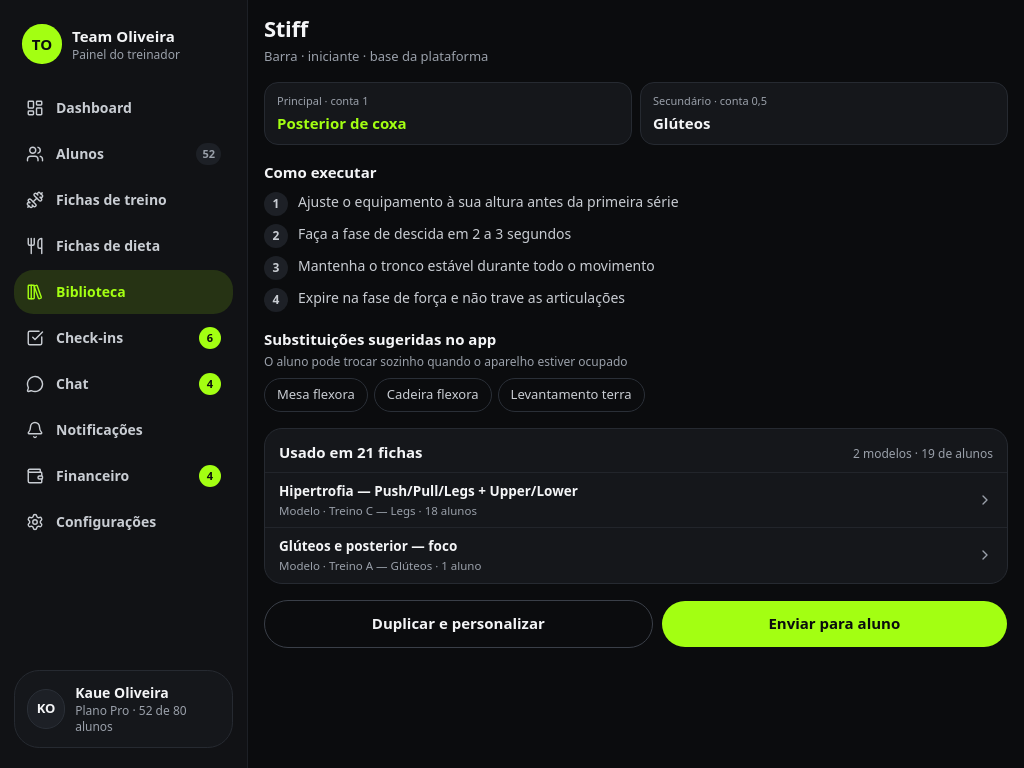
Test: Biblioteca (celular) › duplicar e personalizar vira um exercício meu
(page scrolled)
Check: the heading "Stiff" is shown, box top-left (264, 13), bottom-right (308, 43)
What coordinates should you click on to do the following:
click the button "Duplicar e personalizar"
I would click on:
 (458, 624)
Its box is top-left (264, 600), bottom-right (653, 648).
(page scrolled)
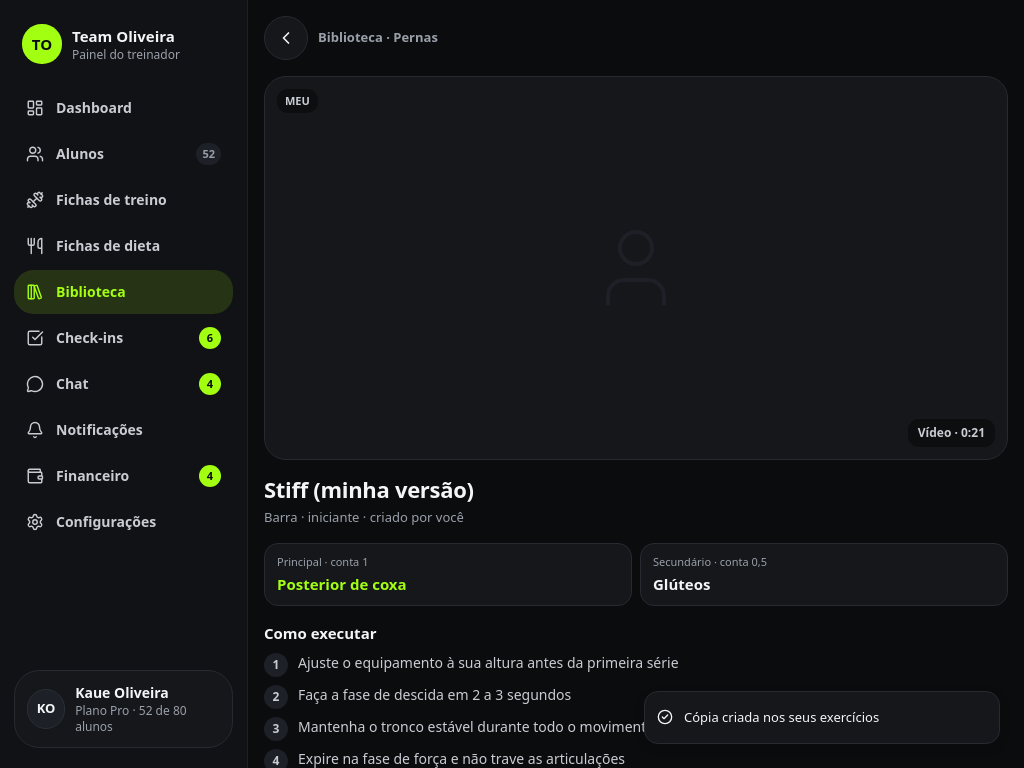
Check: the heading "Stiff (minha versão)" is shown, box top-left (264, 474), bottom-right (474, 504)
Check: the text "Barra · iniciante · criado por você" is shown, box top-left (264, 508), bottom-right (464, 526)
